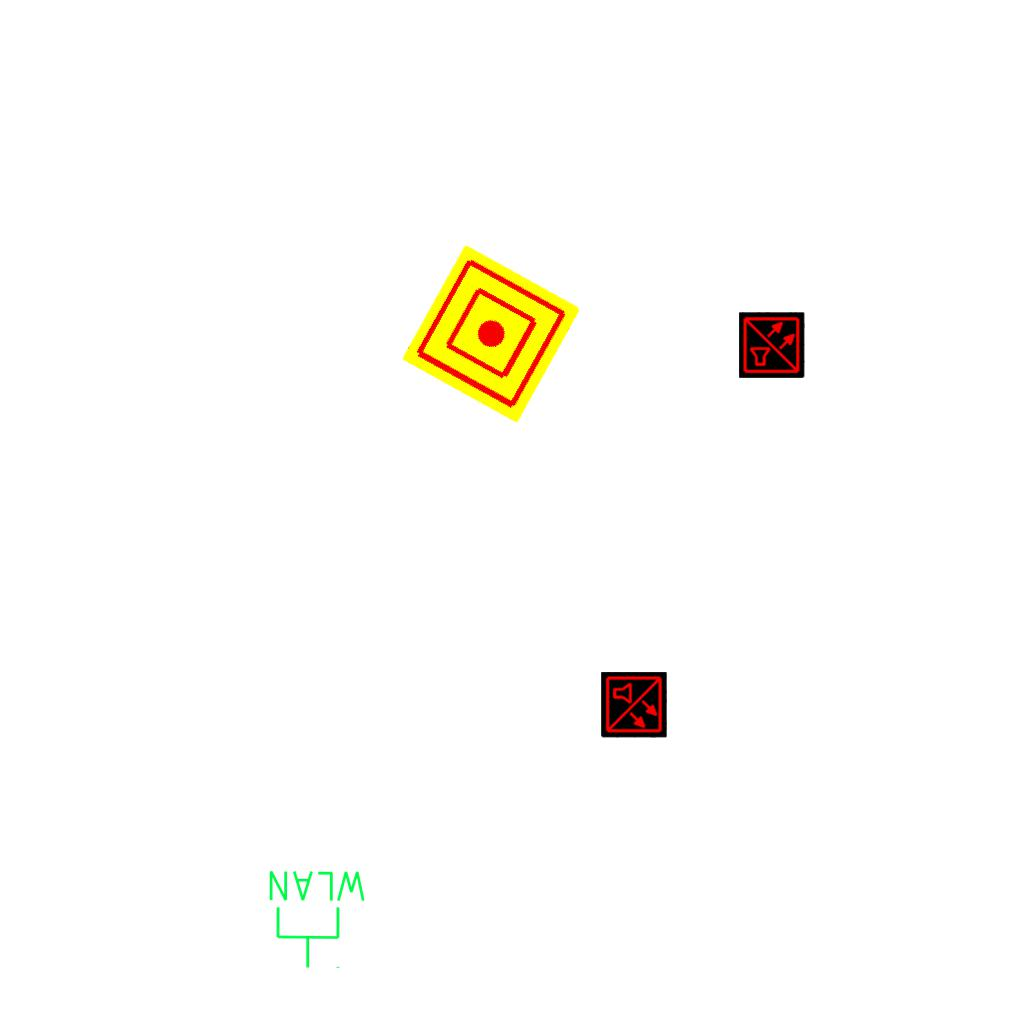NAM-Nichtautomatischer_Melder: (401, 244, 581, 424)
OKW_Multisensormelder_(Kombination_optischer_Rauch-Kahlenmonoxid_Waerme-Melder): (601, 672, 667, 738), (739, 312, 805, 378)
WLAN: (265, 867, 370, 971)
